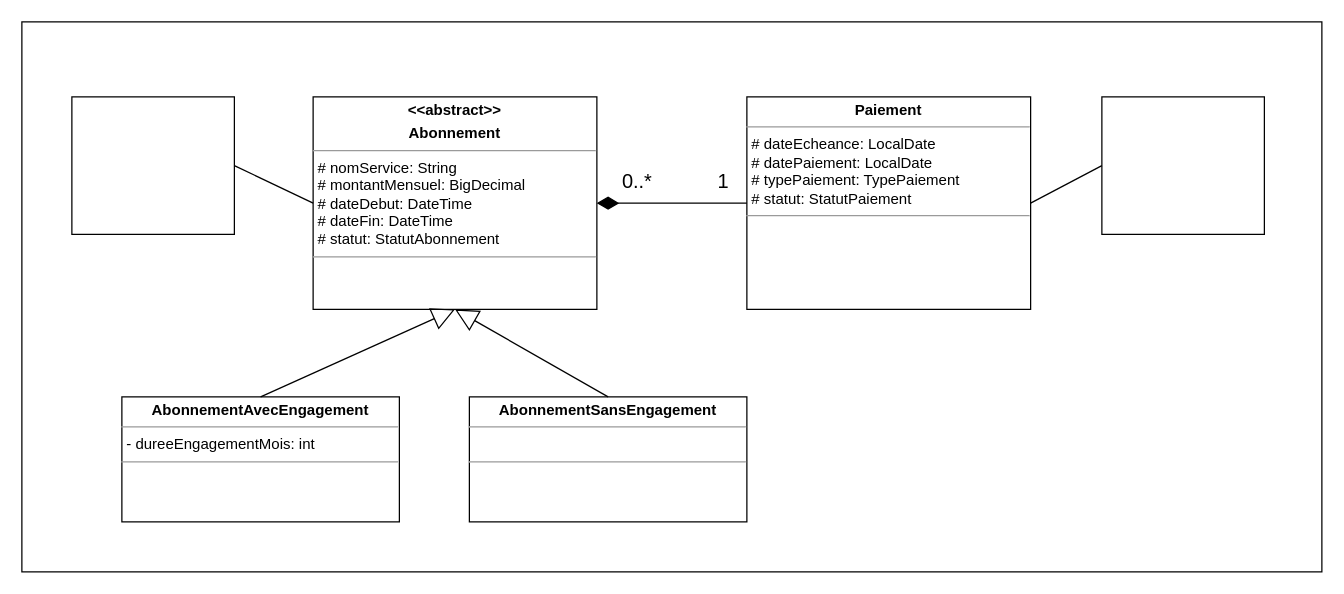
This 1344x594 diagram has some shape labels left out. Here are the shapes that lost their labels. From the top down, the centre of each, then its label:
the point at 152,165: <<enumeration>> StatutAbonnement Active Suspendu Resilie
the point at 1182,165: <<enumeration>> StatutPaiement Payé Non payé En retard
